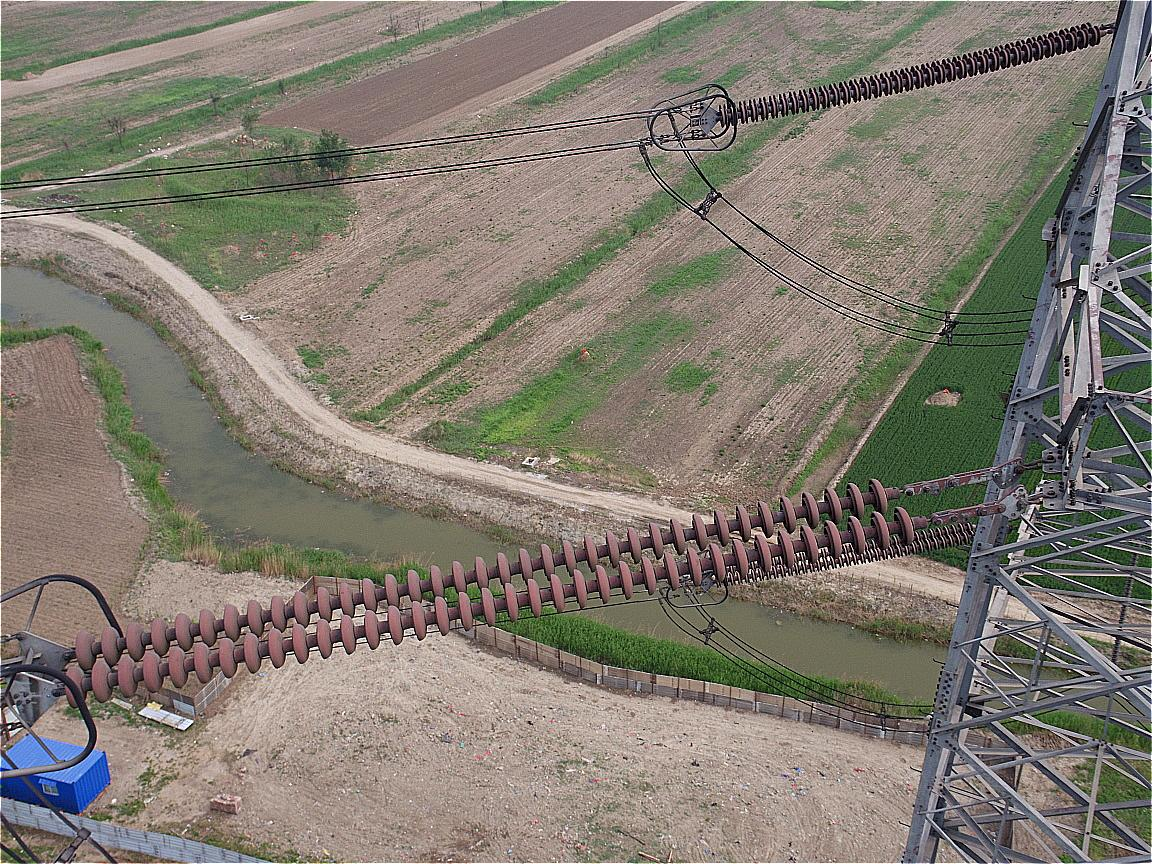insultor1: (49, 451, 946, 737)
